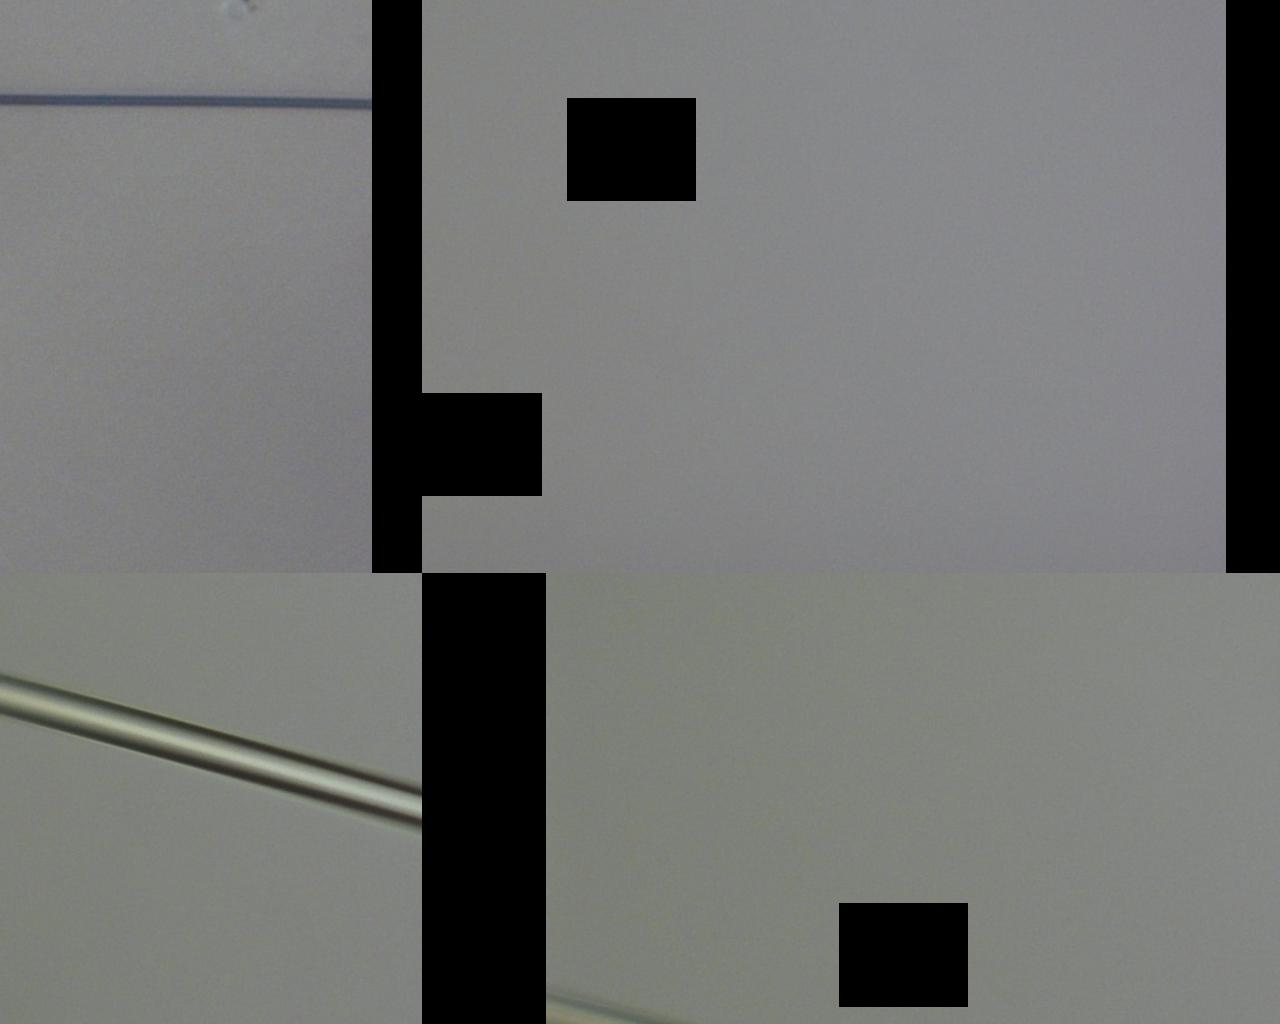fiber: (0, 674, 422, 836), (0, 95, 372, 114)
